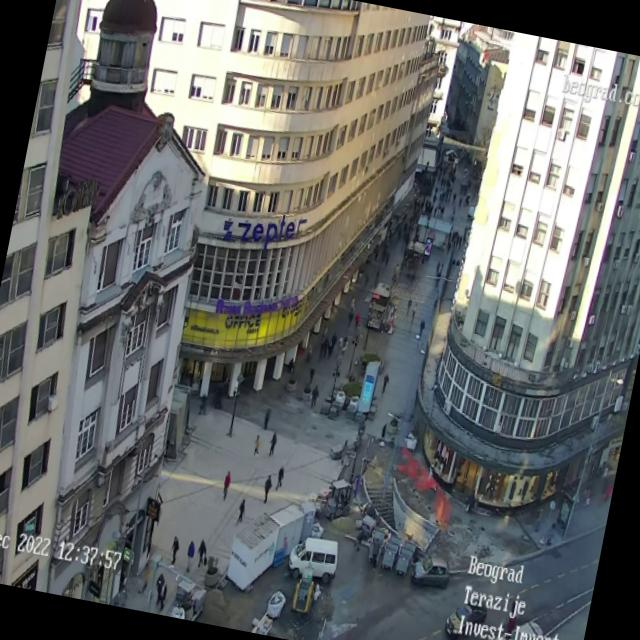car: (285, 535, 340, 587), (443, 593, 490, 640), (412, 552, 454, 591)
